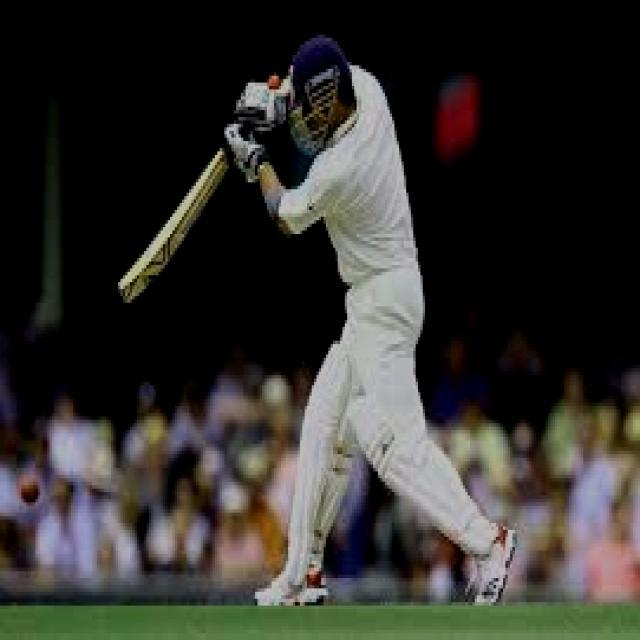bat: (108, 146, 234, 313)
toe: (107, 278, 137, 306)
